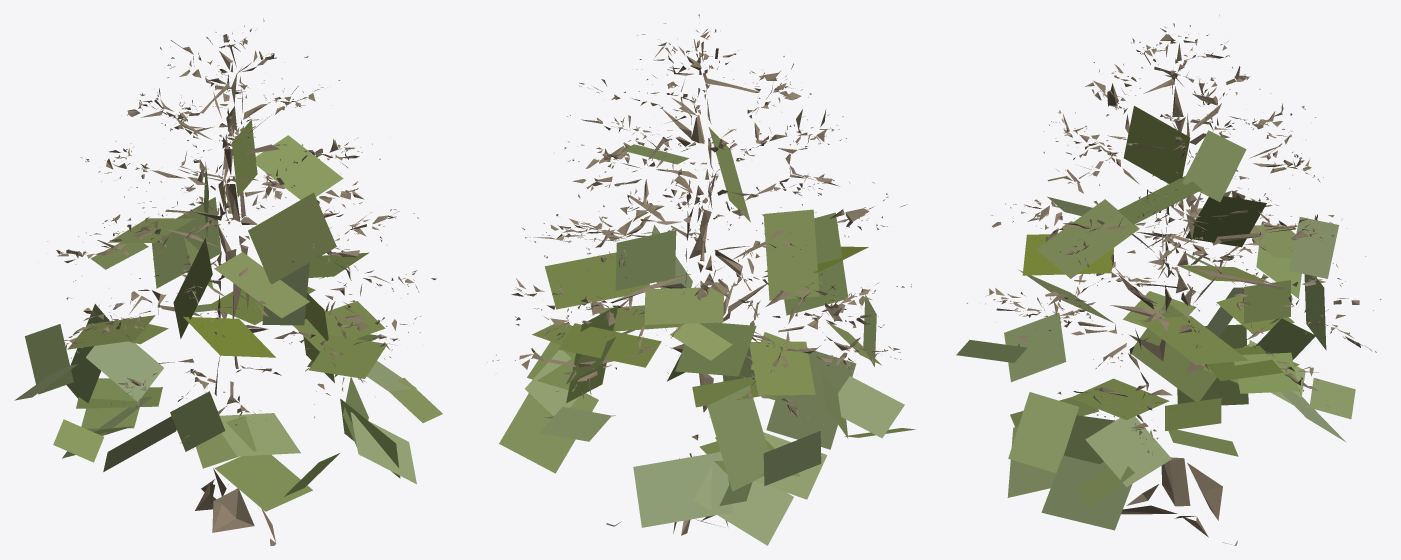
The model's file is tree_medium_redwood_b.glb.
3 views of the same model, side by side, from view 1: azimuth 30°, elevation 25°; view 2: azimuth 150°, elevation 25°; view 3: azimuth 270°, elevation 25° (orthographic). The views are drawn at different scales.
Parts seen in each view (by area): view 1: leaves, wood; view 2: leaves, wood; view 3: leaves, wood.
Part boxes in pixels (<box>): leaves: <box>14,119,442,511</box>; wood: <box>45,18,436,545</box>; leaves: <box>499,127,916,545</box>; wood: <box>487,14,911,535</box>; leaves: <box>956,105,1355,530</box>; wood: <box>966,15,1380,545</box>.
Bounding box in the file's own units: 9.22 × 11.46 × 9.03.
